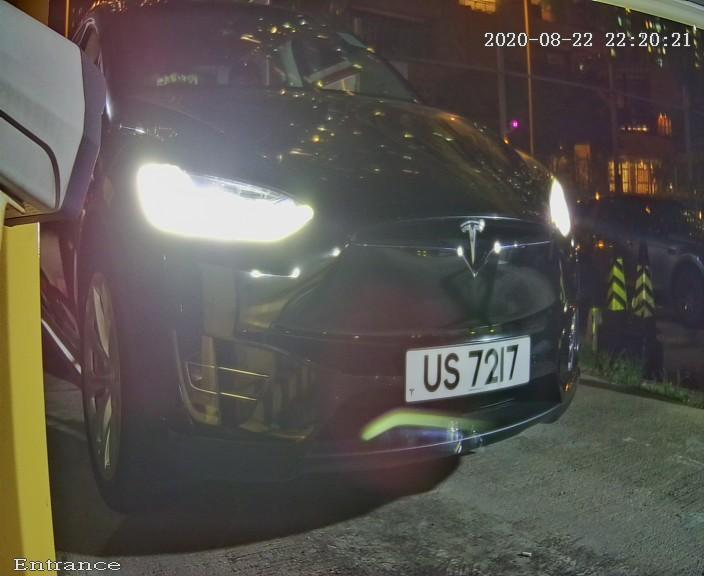Car: (13, 8, 635, 520)
License Plate: (393, 325, 541, 407)
